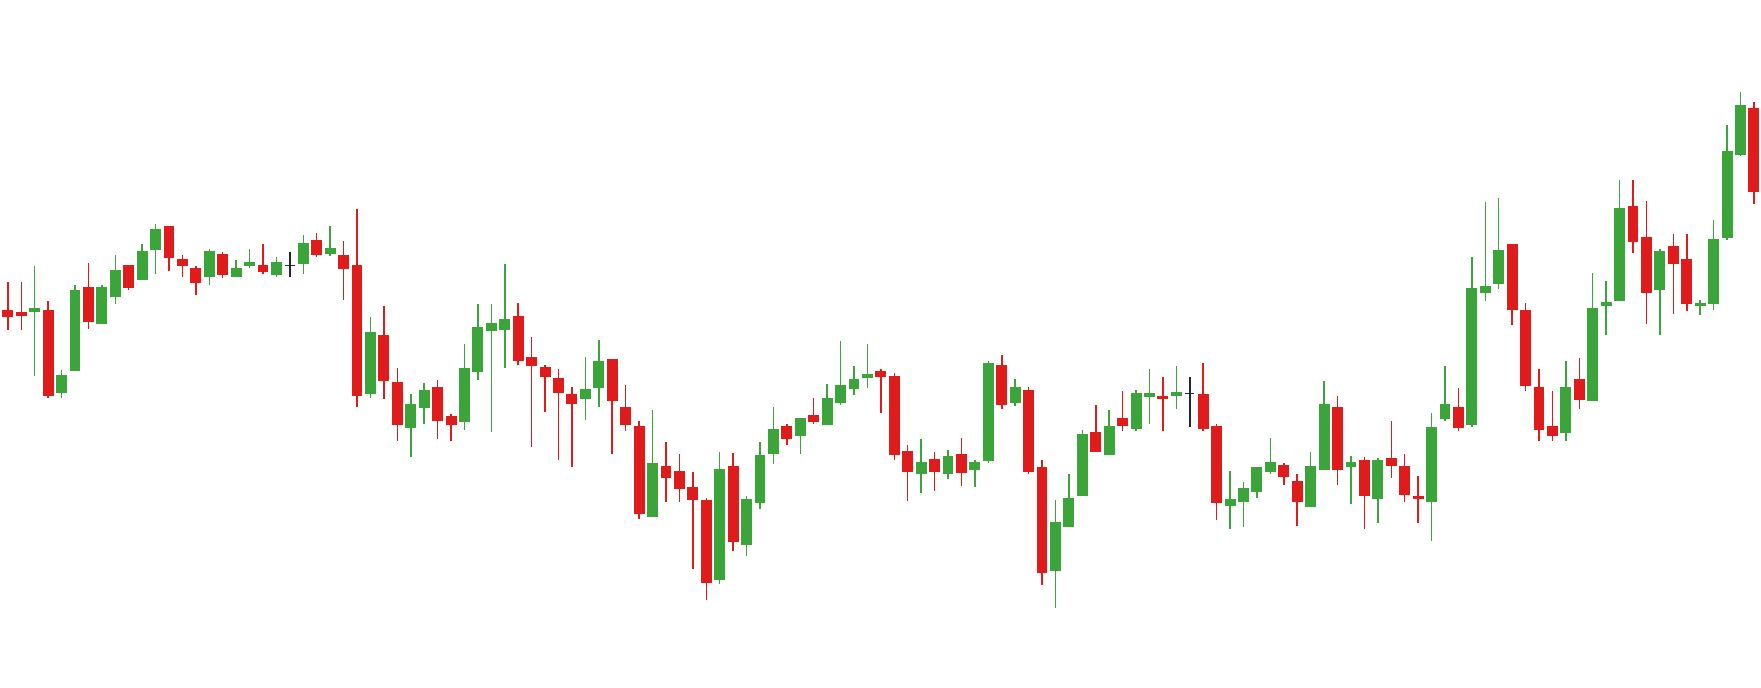buy: (700, 449, 1062, 616), (1452, 327, 1572, 447)
